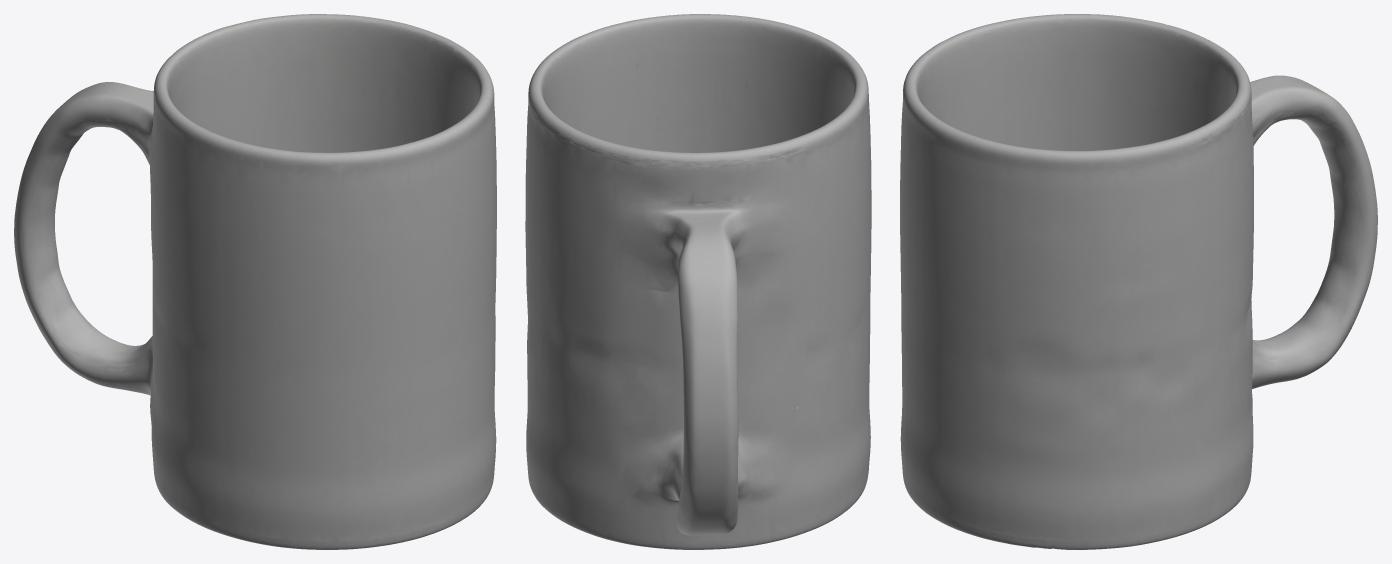
File: POCILLO.glb
The picture shows the model from 3 angles, left to right: view 1: azimuth 30°, elevation 25°; view 2: azimuth 150°, elevation 25°; view 3: azimuth 270°, elevation 25°; orthographic projection.
Visible parts, largest first — view 1: tripo_node_660d360d-8c2b-4633-a494-cd68cb8b26dd; view 2: tripo_node_660d360d-8c2b-4633-a494-cd68cb8b26dd; view 3: tripo_node_660d360d-8c2b-4633-a494-cd68cb8b26dd.
Part boxes in pixels (x1,y1,x2,y2): tripo_node_660d360d-8c2b-4633-a494-cd68cb8b26dd: (14, 14, 496, 549); tripo_node_660d360d-8c2b-4633-a494-cd68cb8b26dd: (525, 14, 871, 549); tripo_node_660d360d-8c2b-4633-a494-cd68cb8b26dd: (900, 14, 1377, 549).
Size of the model in its own units: 0.7649 by 0.8977 by 0.9797.
Materials: 1 (1 with a texture image).
